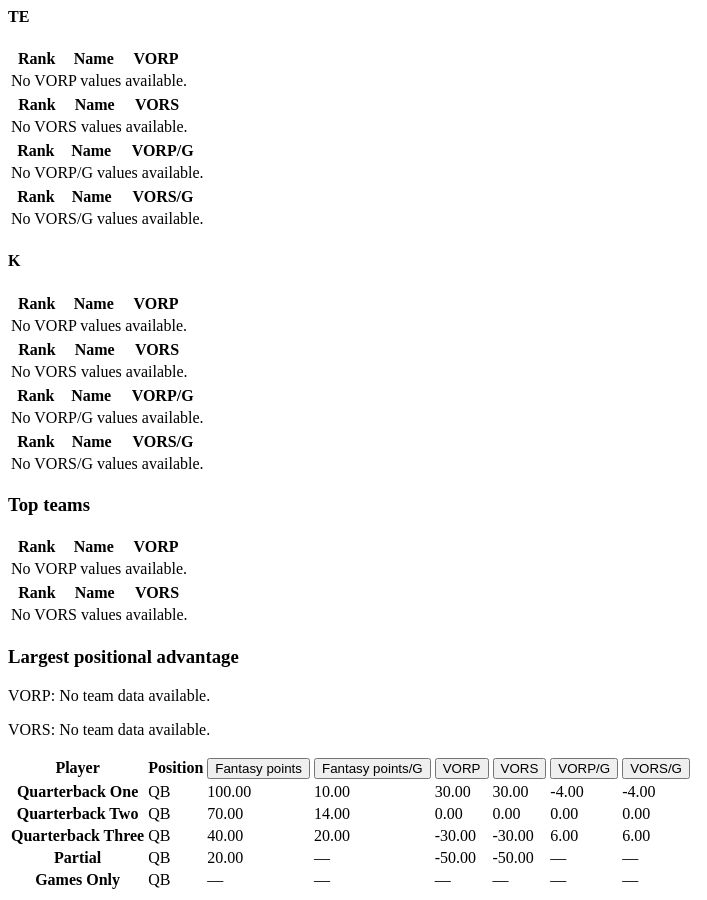
Test: displays and sorts per-game values and ranks players without changing season totals
(page scrolled)
Expected: the text "100.00" is shown, [206,782,311,802]
Expected: the text "10.00" is shown, [313,782,432,802]
Click the button "VORP/G" at (584, 768), box [550,758,618,778]
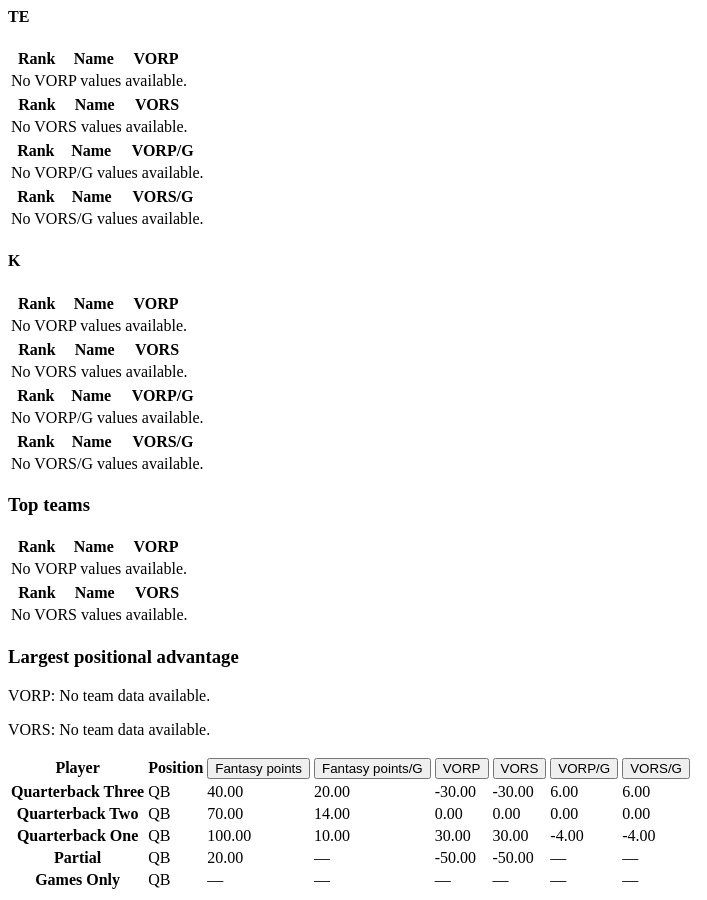
Click the button "VORP/G" at (584, 768), box [550,758,618,778]
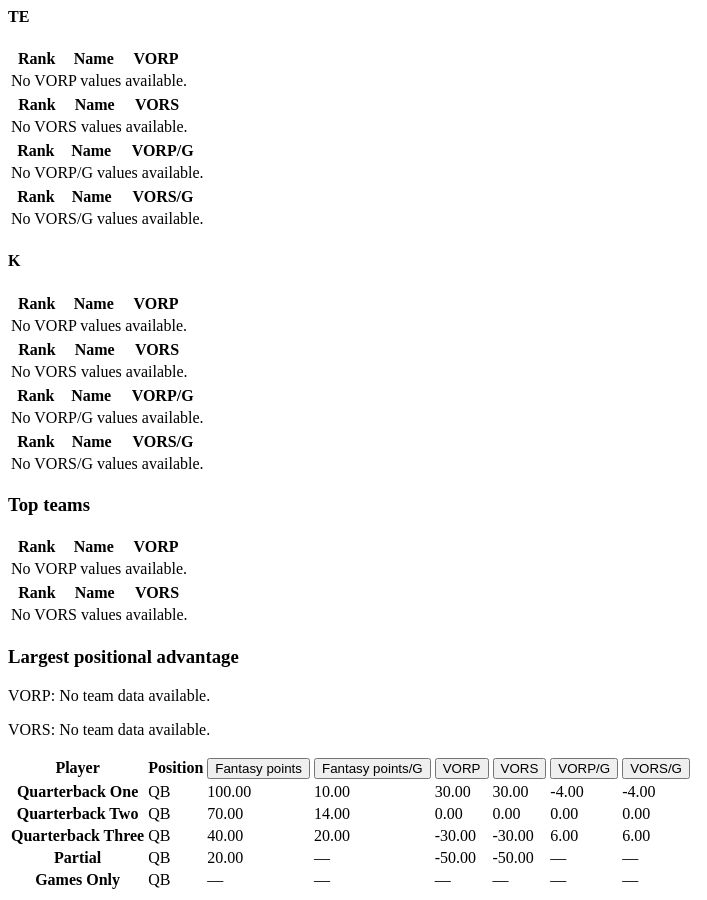
Expected: the column heading "Games Only" is shown, [10,870,145,890]
Click the button "VORS/G" at (656, 768), box [622,758,690,778]
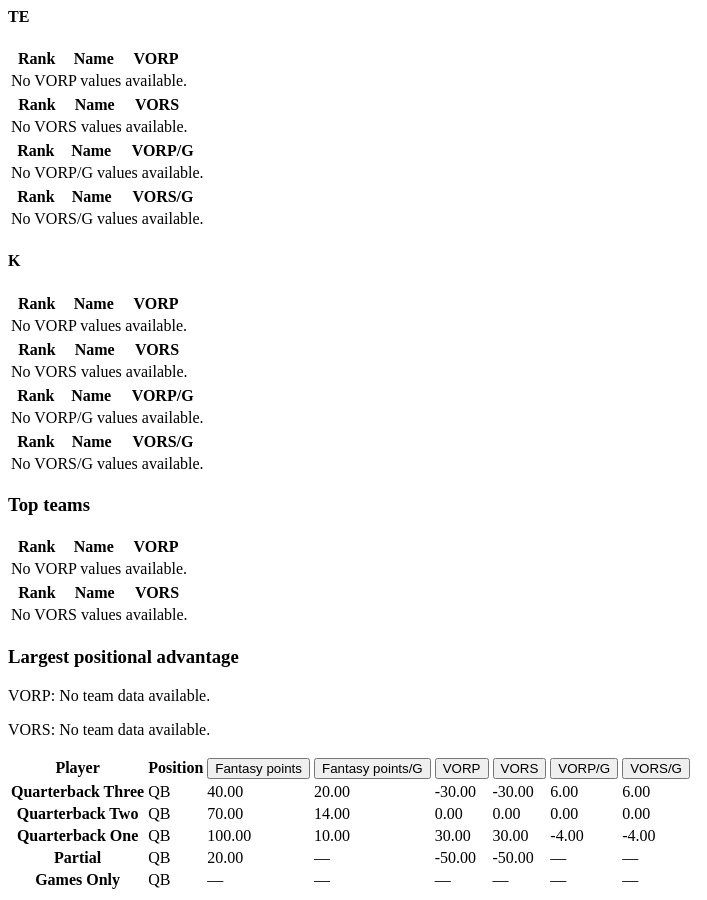
Click the button "VORS/G" at (656, 768), box [622,758,690,778]
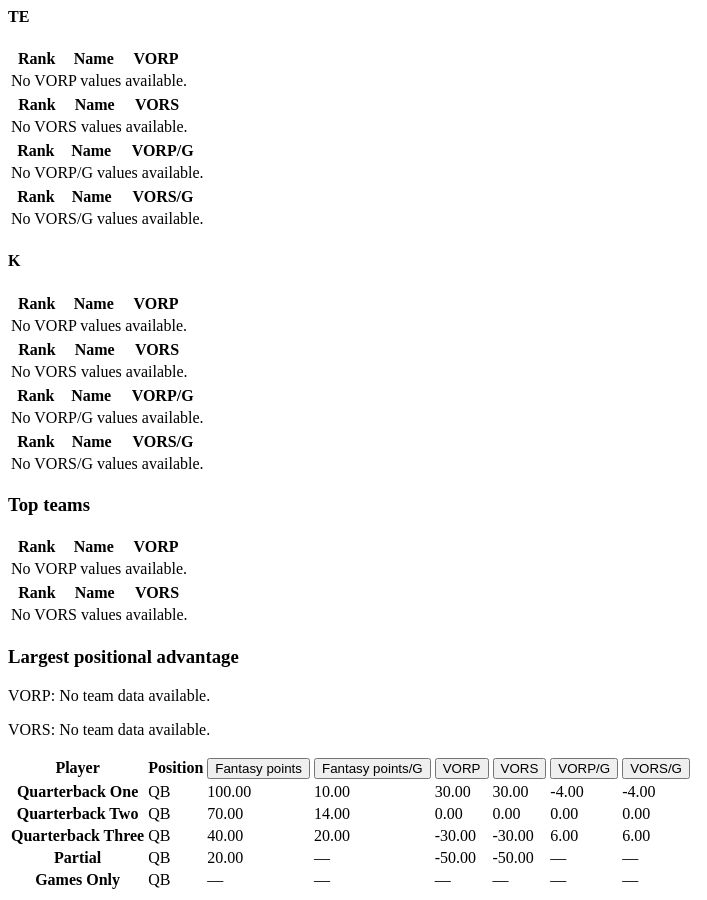
Expected: the column heading "Games Only" is shown, [10,870,145,890]
Click the button "Fantasy points/G" at (372, 768), box [314,758,431,778]
(page scrolled)
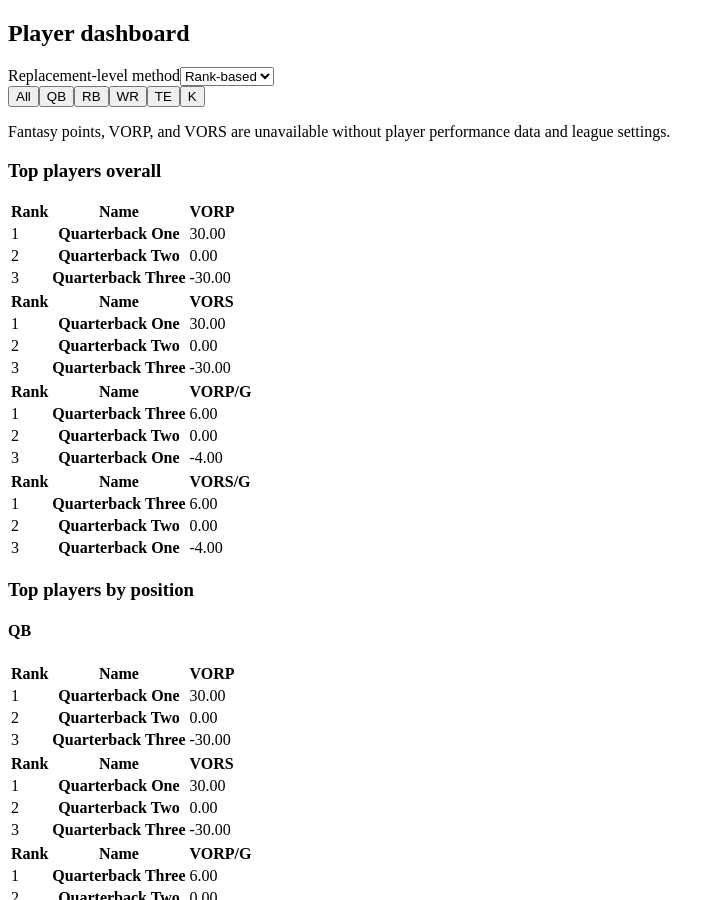
Expected: the 1st column heading "Quarterback Three" is shown, [51,268,187,288]
Select "Free agent" in the dropdown labelled "Replacement-level method" at (227, 76), box [180,67,274,86]
(page scrolled)
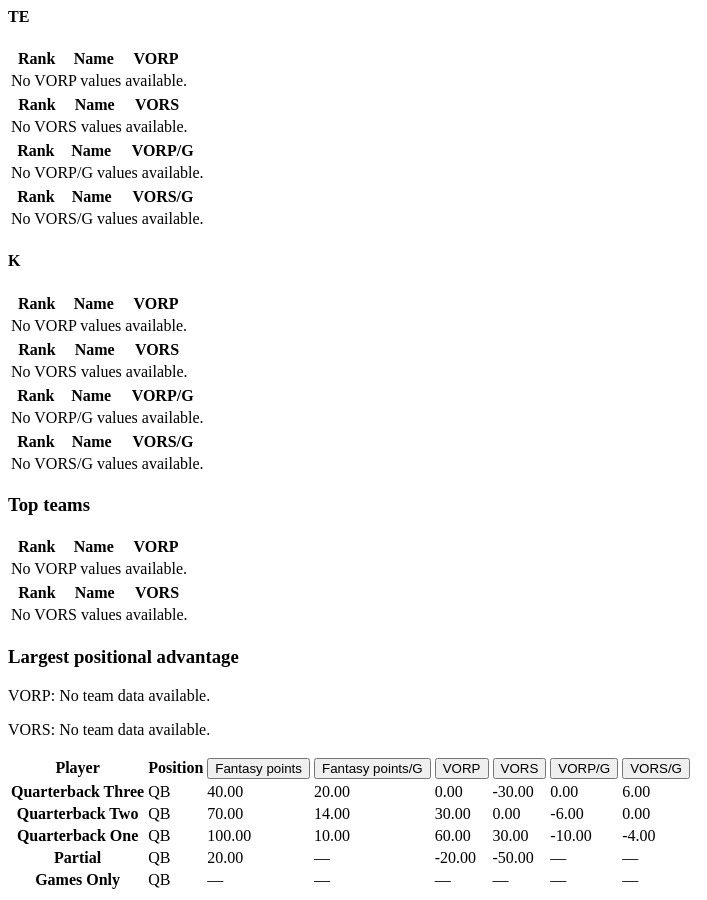
Expected: the text "-4.00" is shown, [621,826,691,846]
Expected: the text "-10.00" is shown, [549,826,619,846]
